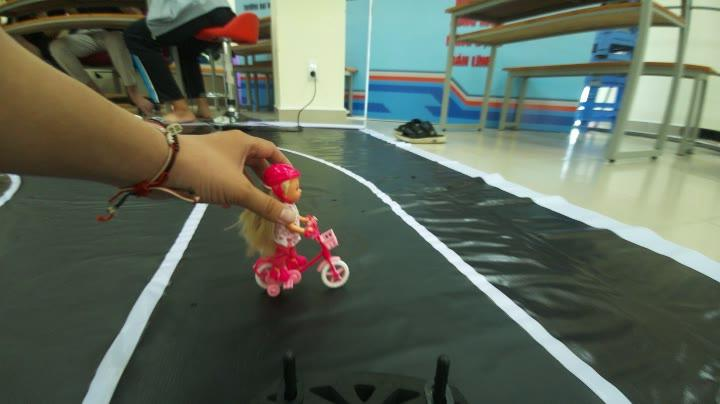pedestrian: (253, 157, 360, 292)
